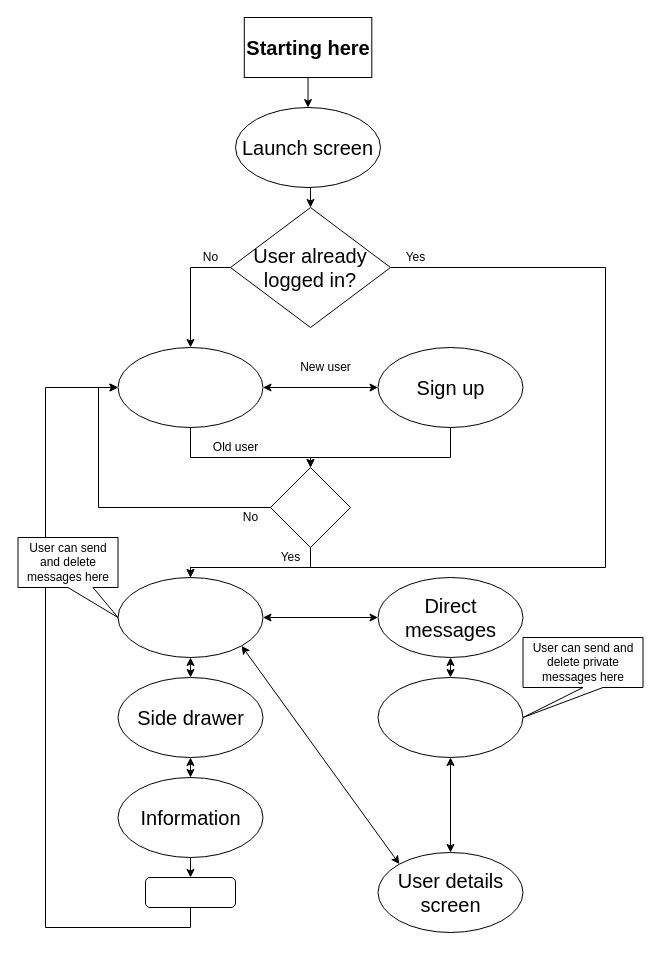
The diagram is 660 pixels wide and 953 high, and some of its shapes have lost their labels. The centre of each missing label's shape, as x and y in pixels:
General chat: point (190, 617)
Login: point (190, 387)
Private chat: point (450, 717)
Sign out: point (190, 892)
Valid?: point (310, 507)
